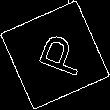P_W: (24, 29, 86, 81)
